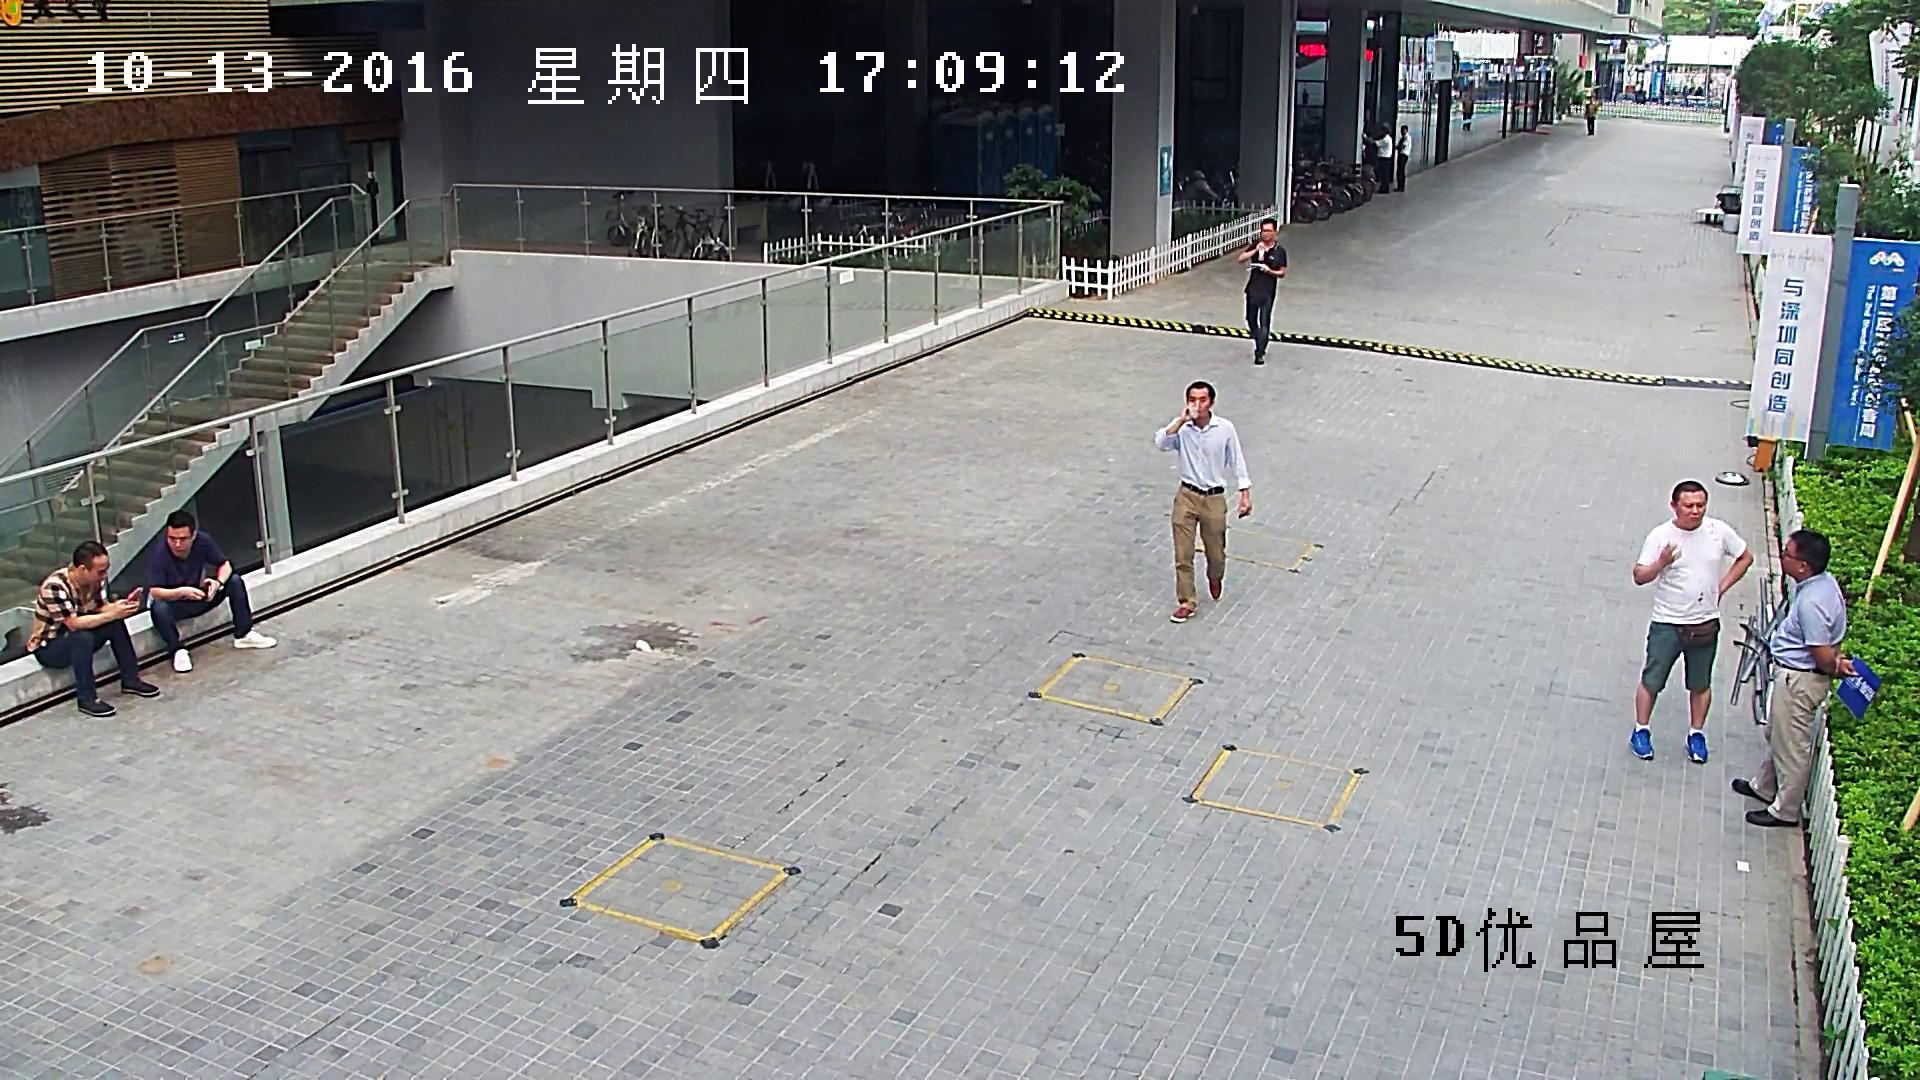person: (1731, 529, 1882, 831), (1627, 480, 1755, 764), (25, 538, 161, 719), (1152, 382, 1253, 624), (143, 507, 279, 675), (1236, 218, 1288, 366), (1362, 122, 1393, 194), (1394, 123, 1412, 194), (1461, 80, 1474, 132), (1584, 95, 1598, 136)
